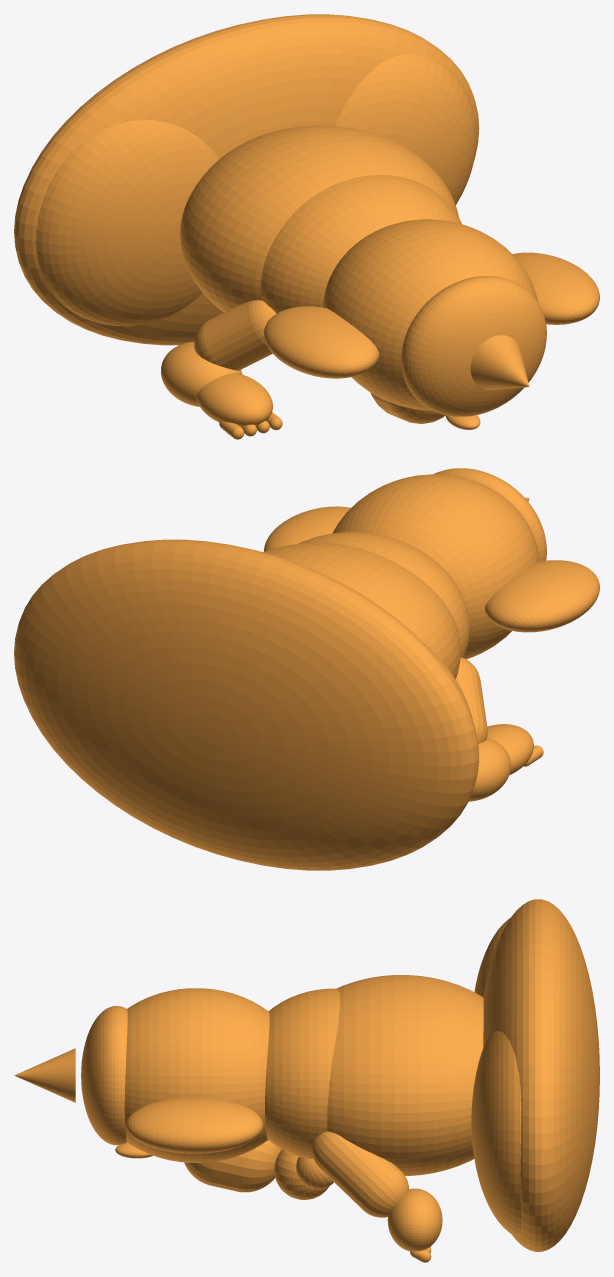
File: ganesha_stylized_3d.glb
3 views of the same model, one above another, from view 1: azimuth 30°, elevation 25°; view 2: azimuth 150°, elevation 25°; view 3: azimuth 270°, elevation 25° (orthographic). The views are drawn at different scales.
Visible parts, largest first — view 1: base_cushion, left_leg, belly, head, crown, chest, right_leg, ear_L, left_arm, ear_R, left_palm, crown_peak (+2 smaller); view 2: base_cushion, head, belly, ear_L, chest, ear_R, crown, left_hand, left_arm, left_palm; view 3: base_cushion, belly, head, chest, right_leg, ear_R, crown, right_arm, trunk1, right_hand, crown_peak, trunk2 (+2 smaller).
Boxes of the visible parts, x1,y1,x2,y2 form: base_cushion: (14,14,479,345); left_leg: (36,120,218,326); belly: (180,125,458,312); head: (323,219,537,410); crown: (401,276,546,416); chest: (261,175,461,313); right_leg: (336,53,476,204); ear_L: (264,306,379,378); left_arm: (194,300,276,370); ear_R: (512,252,599,324); left_palm: (196,373,272,426); crown_peak: (470,335,529,389); base_cushion: (14,539,479,870); head: (332,474,539,659); belly: (263,542,460,679); ear_L: (485,560,599,632); chest: (298,532,469,657); ear_R: (264,506,350,551); crown: (433,468,546,561); left_hand: (468,738,510,801); left_arm: (456,657,487,743); left_palm: (487,724,533,774); base_cushion: (483,899,599,1251); belly: (327,975,483,1175); head: (124,988,269,1162); chest: (265,988,339,1159); right_leg: (471,1030,521,1236); ear_R: (126,1098,262,1153); crown: (81,1006,127,1145); right_arm: (311,1131,409,1217); trunk1: (184,1140,281,1192); right_hand: (387,1188,442,1251); crown_peak: (14,1048,75,1102); trunk2: (274,1149,329,1199).
Size of the model in its own units: 3.6 by 2.3 by 4.28.
